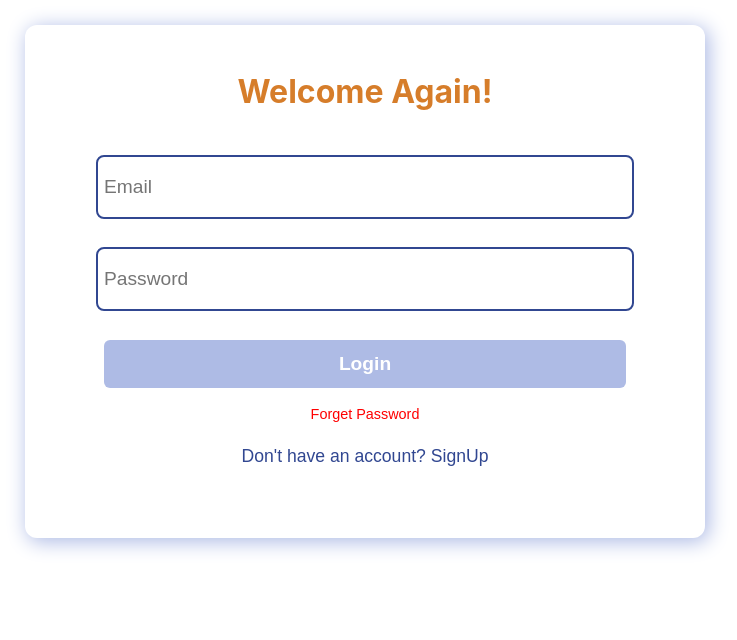
Scenario: Auth component › renders 'Don't have an account? SignUp' text if the button was clicked
Click the button "Don't have an account? SignUp" at point(365, 456), box [236,444,494,468]
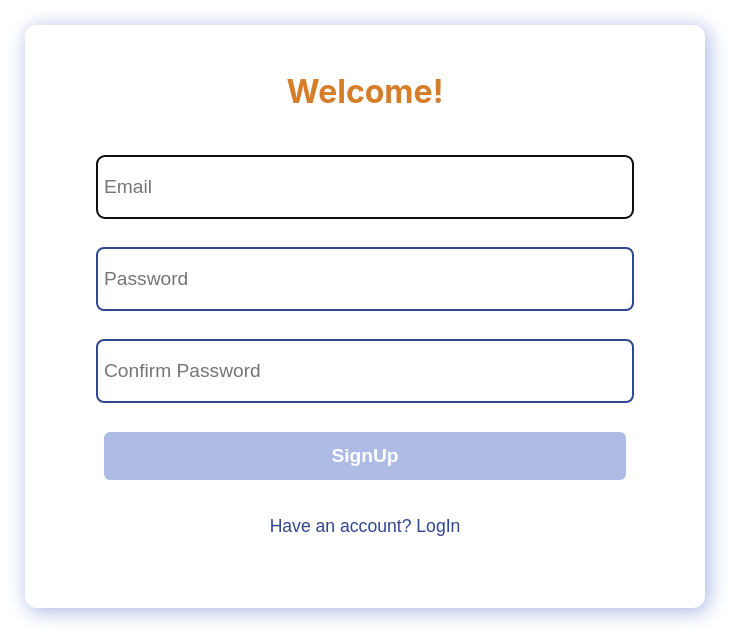
Expected: the heading "Welcome!" is shown, [287,72,444,110]
